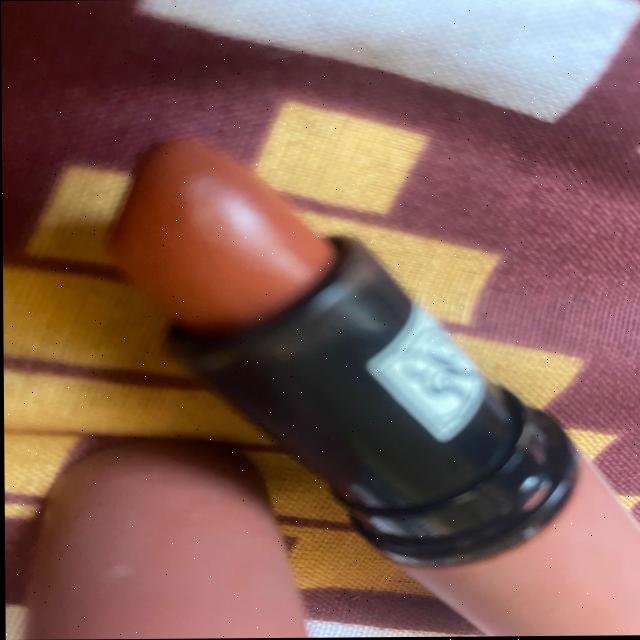lip stick: (97, 120, 638, 639)
